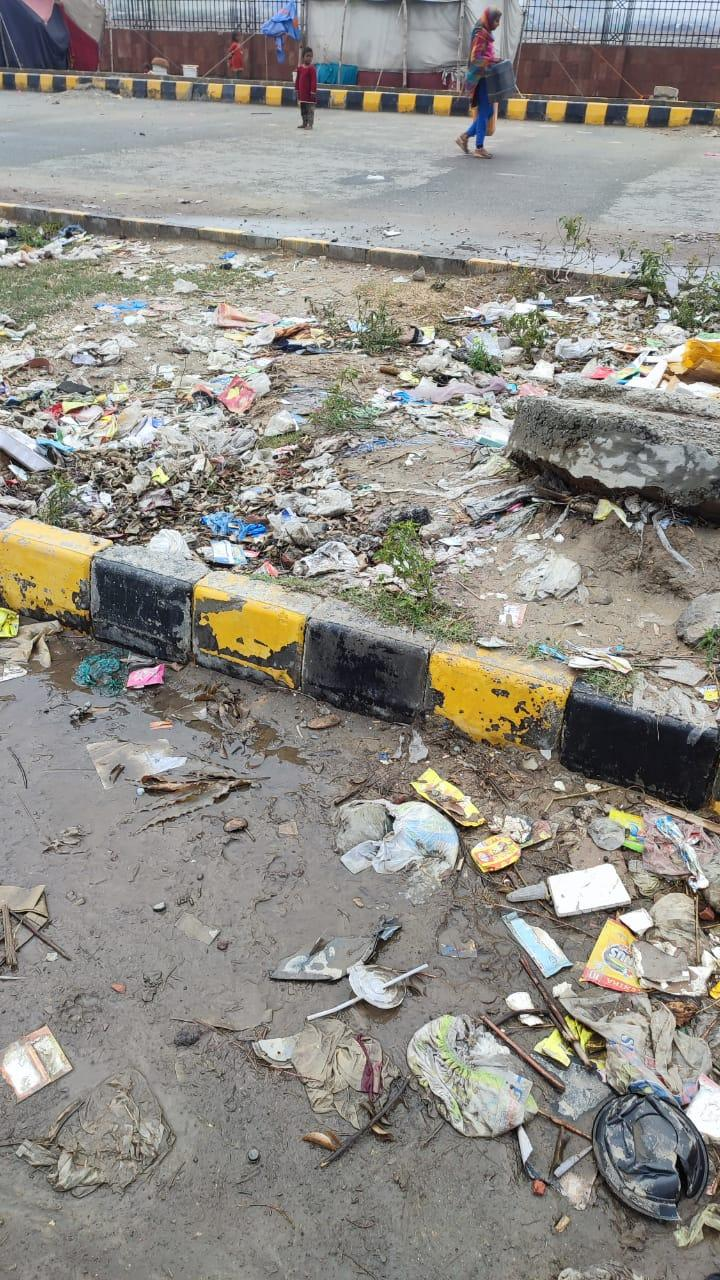garbage: (0, 273, 720, 661), (358, 748, 720, 1265)
